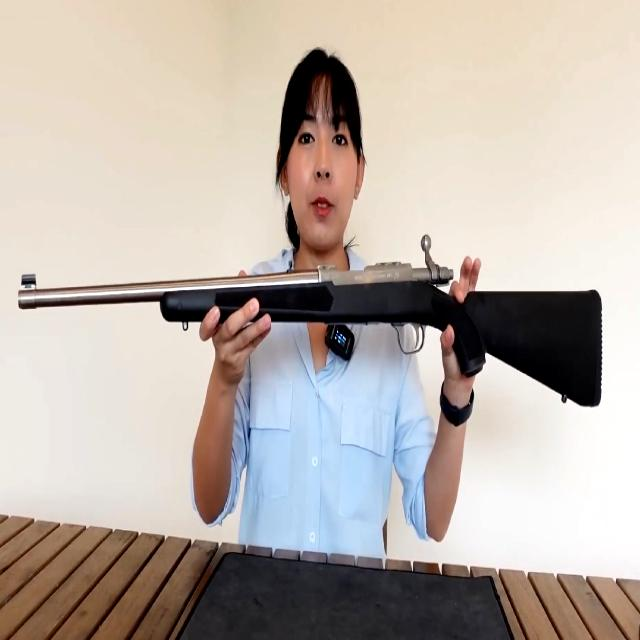rifle: (11, 226, 615, 422)
